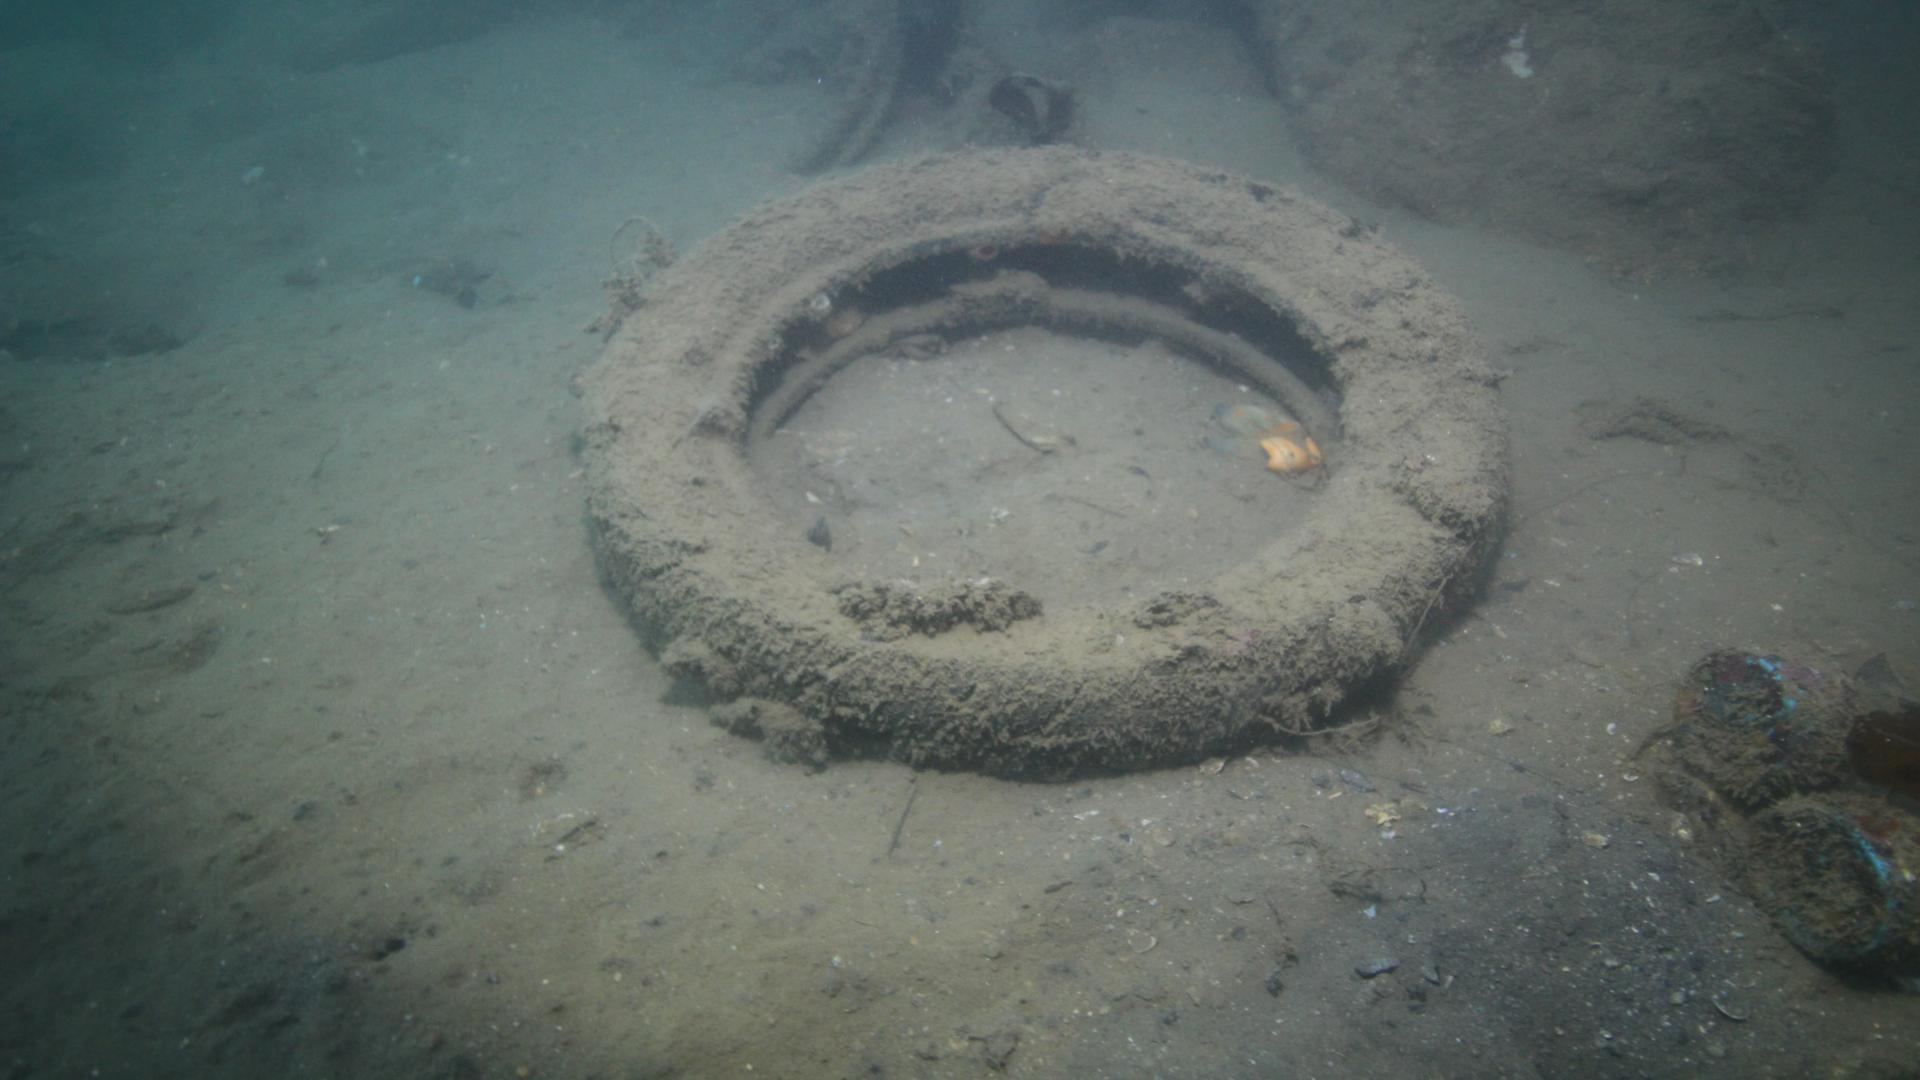tire: (578, 142, 1513, 775)
